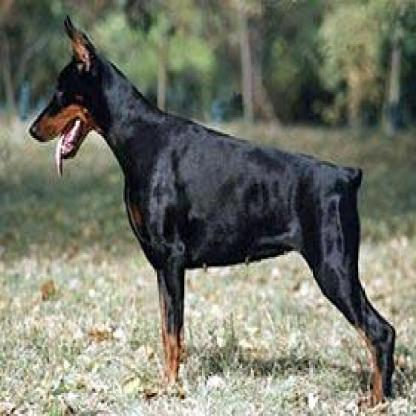Doberman: (24, 13, 395, 399)
